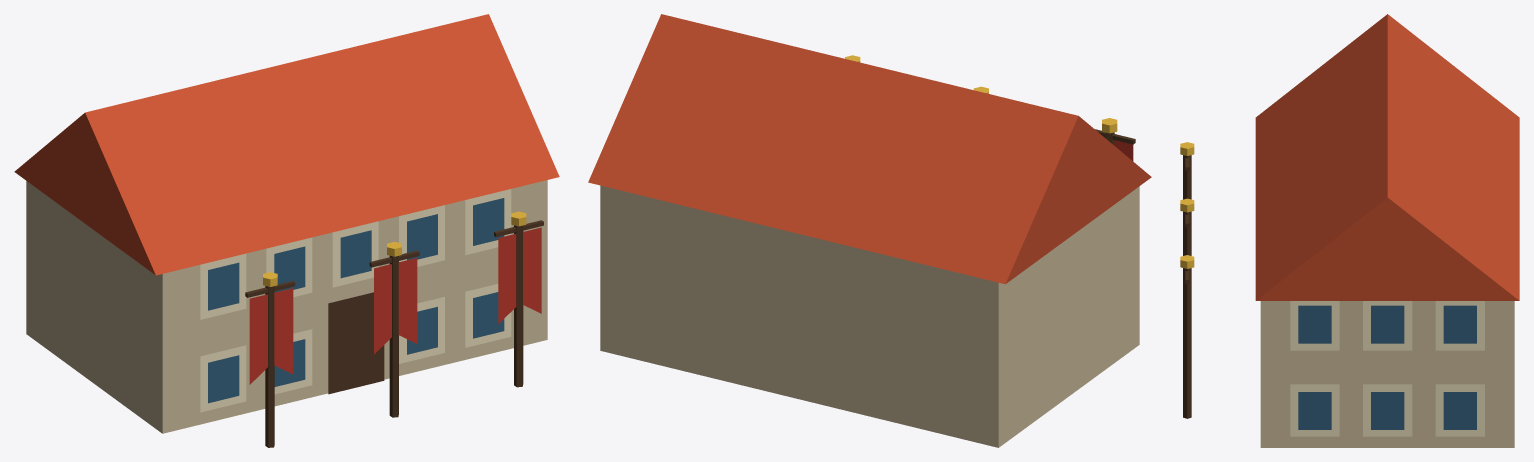
The model's file is building_barracks.fbx.
3 renders of one model, left to right at view 1: azimuth 30°, elevation 25°; view 2: azimuth 150°, elevation 25°; view 3: azimuth 270°, elevation 25°, orthographic. The views are drawn at different scales.
Parts seen in each view (by area): view 1: building_barracks; view 2: building_barracks; view 3: building_barracks.
Part boxes in pixels (left/top/right/bottom): building_barracks: left=14, top=14, right=559, bottom=447; building_barracks: left=588, top=14, right=1151, bottom=447; building_barracks: left=1180, top=14, right=1519, bottom=447.
Bounding box in the file's own units: 65 × 42.1 × 50.79.
